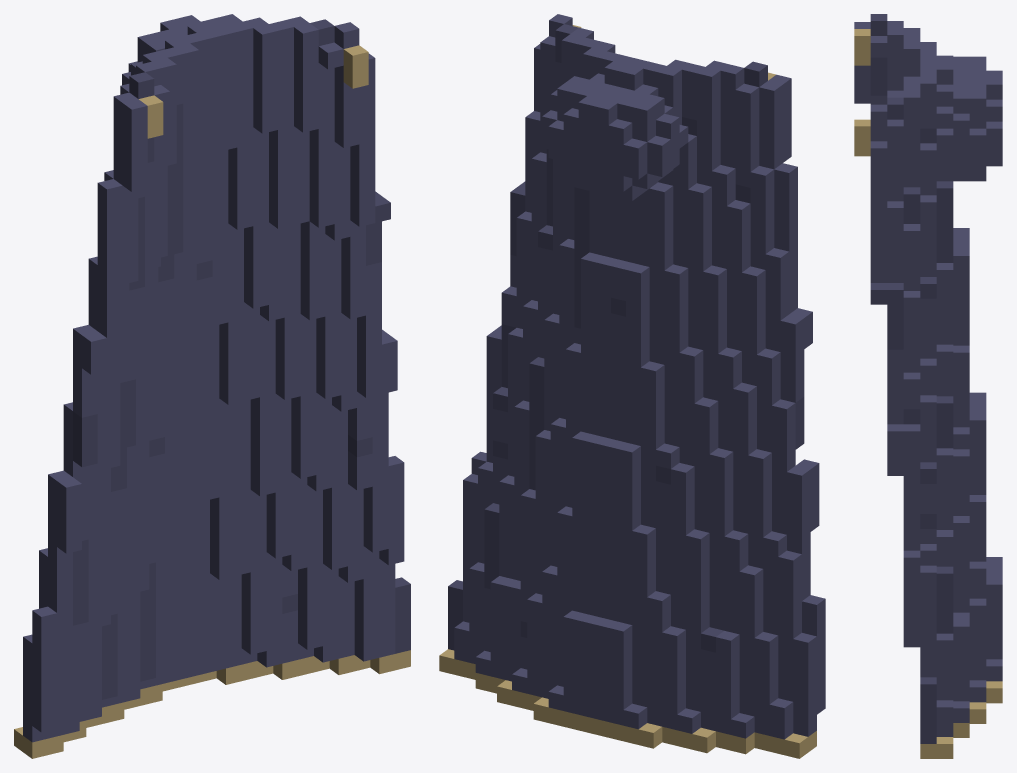
Rendered from mystic_rare_cloak_lod1.glb.
3 renders of one model, left to right at view 1: azimuth 30°, elevation 25°; view 2: azimuth 150°, elevation 25°; view 3: azimuth 270°, elevation 25°, orthographic. The views are drawn at different scales.
Visible parts, largest first — view 1: mystic_rare_cloak_lod1; view 2: mystic_rare_cloak_lod1; view 3: mystic_rare_cloak_lod1.
Boxes of the visible parts, x1,y1,x2,y2 form: mystic_rare_cloak_lod1: (14, 14, 410, 758); mystic_rare_cloak_lod1: (439, 14, 825, 758); mystic_rare_cloak_lod1: (854, 14, 1002, 758).
Bounding box in the file's own units: 0.576 × 0.984 × 0.216.
